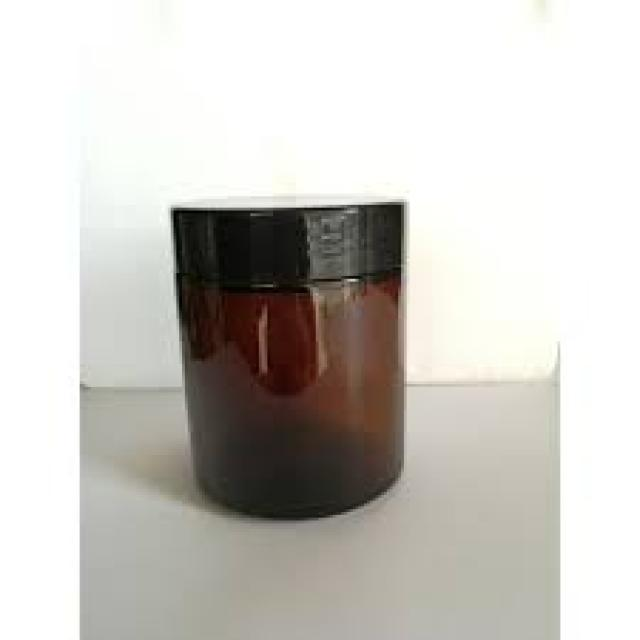glass: (182, 279, 395, 512)
